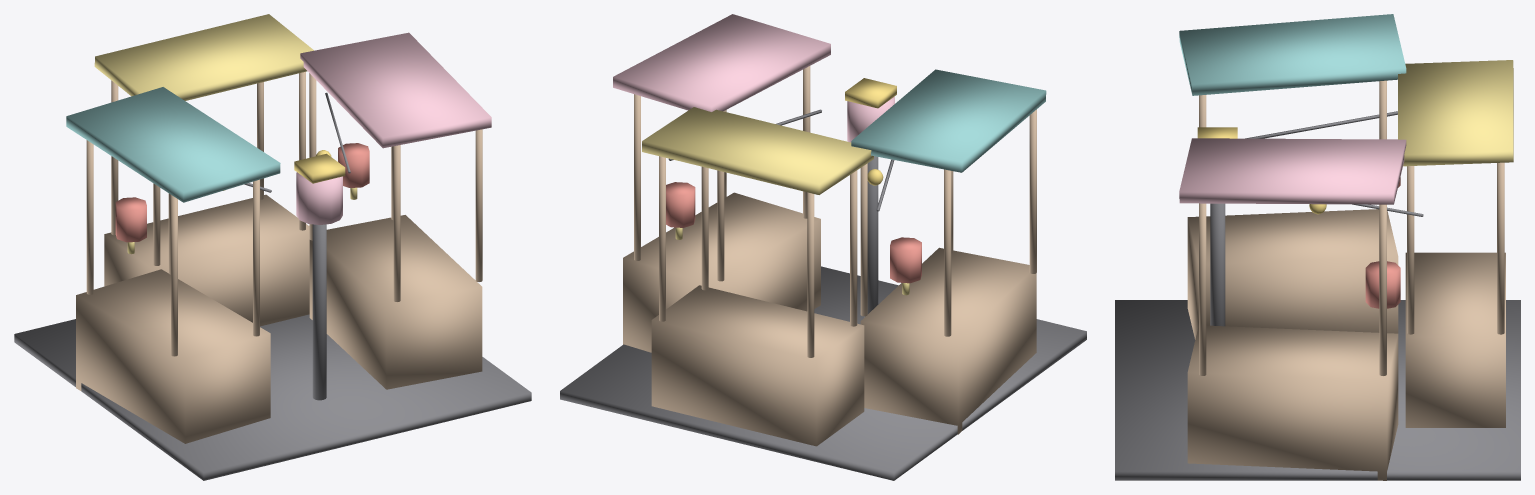
The model's file is night_market_lv3.glb.
3 renders of one model, left to right at view 1: azimuth 30°, elevation 25°; view 2: azimuth 150°, elevation 25°; view 3: azimuth 270°, elevation 25°, orthographic. The views are drawn at different scales.
Visible parts, largest first — view 1: brick_ground, stall1_tbl, stall2_tbl, stall3_tbl, stall1_can, stall2_can, stall3_can, lamp_post, lamp_body, stall1_lan, stall2_p1, stall1_p3 (+10 smaller); view 2: stall3_tbl, stall1_tbl, brick_ground, stall2_tbl, stall2_can, stall1_can, stall3_can, lamp_post, stall1_lan, stall1_p3, stall3_p3, stall2_lan (+10 smaller); view 3: stall2_tbl, brick_ground, stall1_tbl, stall3_tbl, stall1_can, stall2_can, stall3_can, lamp_post, stall2_p2, stall3_p4, stall2_p4, stall3_p2 (+4 smaller).
Part boxes in pixels (x1,y1,x2,y2): brick_ground: [14, 314, 531, 480]; stall1_tbl: [76, 269, 270, 443]; stall2_tbl: [309, 215, 482, 389]; stall3_tbl: [104, 194, 309, 326]; stall1_can: [66, 87, 280, 202]; stall2_can: [300, 32, 491, 148]; stall3_can: [94, 14, 313, 100]; lamp_post: [312, 224, 326, 400]; lamp_body: [296, 172, 342, 224]; stall1_lan: [115, 197, 146, 242]; stall2_p1: [393, 145, 400, 301]; stall1_p3: [86, 140, 93, 294]; stall3_tbl: [651, 285, 864, 446]; stall1_tbl: [860, 247, 1036, 434]; brick_ground: [560, 266, 1086, 480]; stall2_tbl: [623, 192, 820, 352]; stall2_can: [613, 14, 830, 111]; stall1_can: [851, 69, 1046, 172]; stall3_can: [642, 107, 873, 194]; lamp_post: [864, 156, 878, 317]; stall1_lan: [890, 237, 921, 283]; stall1_p3: [944, 169, 951, 336]; stall3_p3: [807, 192, 814, 357]; stall2_lan: [666, 182, 695, 227]; stall2_tbl: [1187, 325, 1398, 480]; brick_ground: [1115, 300, 1520, 480]; stall1_tbl: [1187, 209, 1398, 339]; stall3_tbl: [1405, 252, 1505, 427]; stall1_can: [1179, 14, 1406, 95]; stall2_can: [1179, 138, 1406, 204]; stall3_can: [1398, 60, 1513, 166]; lamp_post: [1210, 203, 1225, 326]; stall2_p2: [1199, 203, 1206, 375]; stall3_p4: [1497, 162, 1504, 334]; stall2_p4: [1379, 204, 1386, 375]; stall3_p2: [1407, 166, 1414, 334].
Size of the model in its own units: 1.69 by 1.28 by 1.62.
